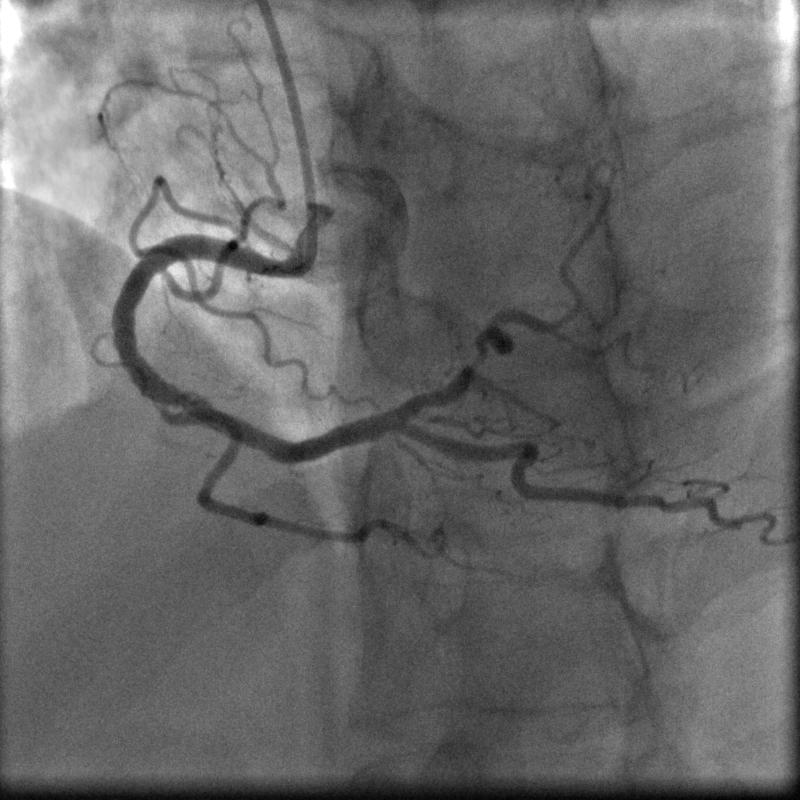Stenosis: (457, 344, 498, 371)
